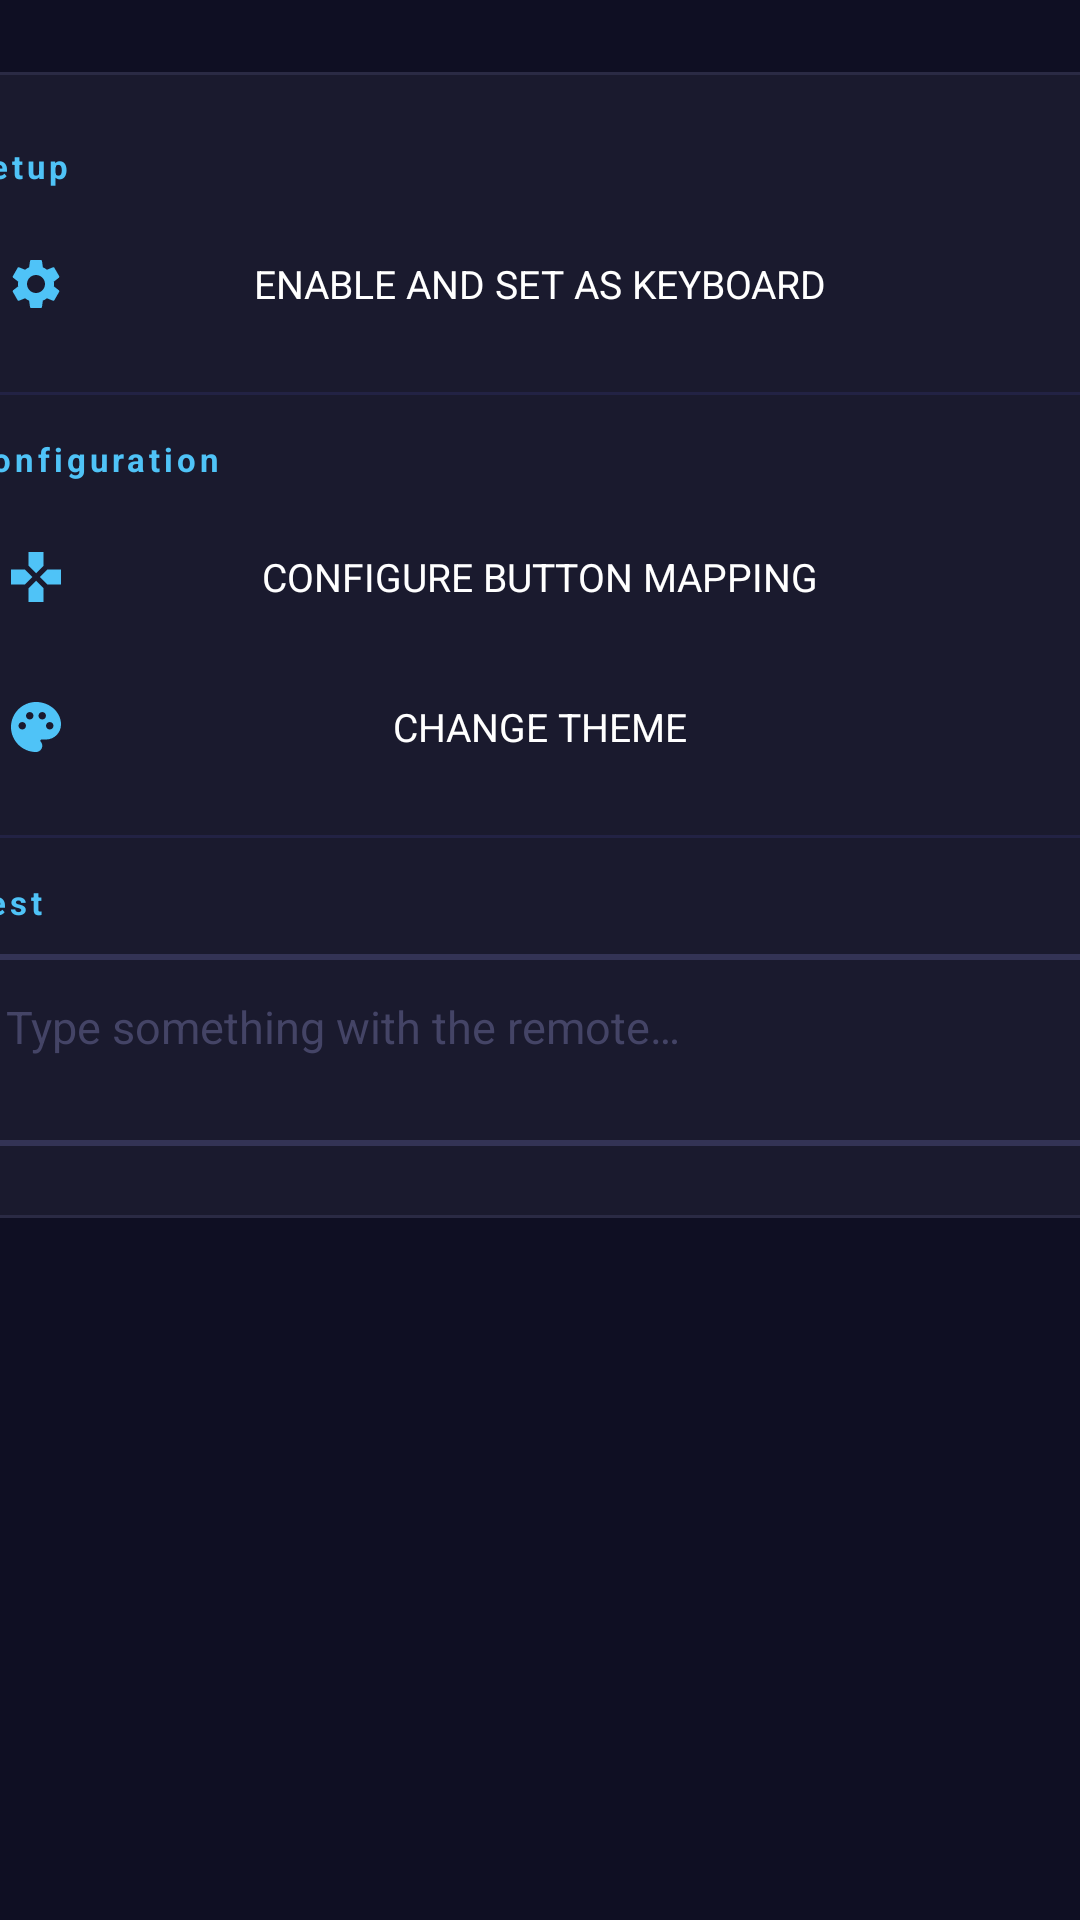

Icons on this 1080px x 1920px Android screen, each with its box as BBox(x1, y1, x2, y2):
gamepad: BBox(11, 552, 61, 602)
palette: BBox(11, 702, 61, 752)
settings: BBox(12, 260, 60, 308)
